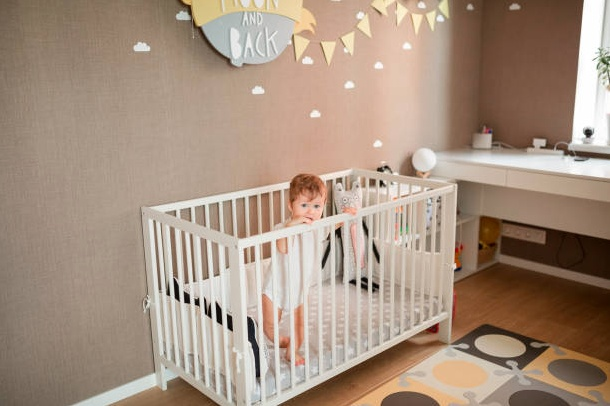baby: (262, 230, 320, 364)
crib: (142, 169, 456, 404)
